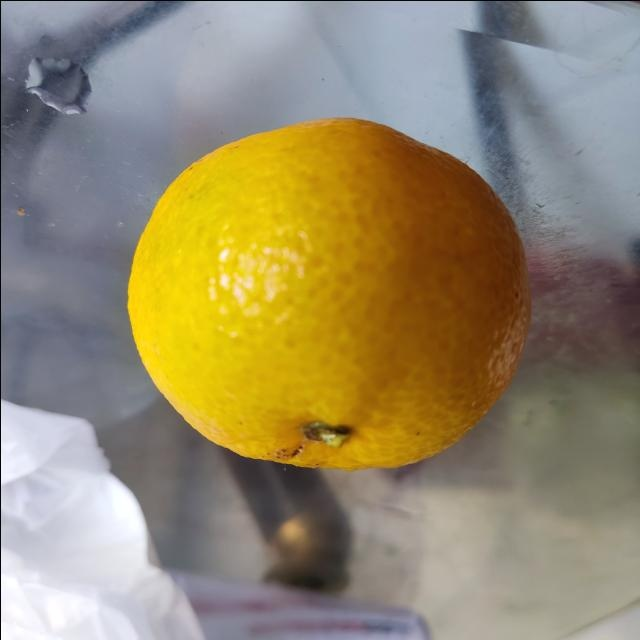agrume: (128, 116, 536, 472)
